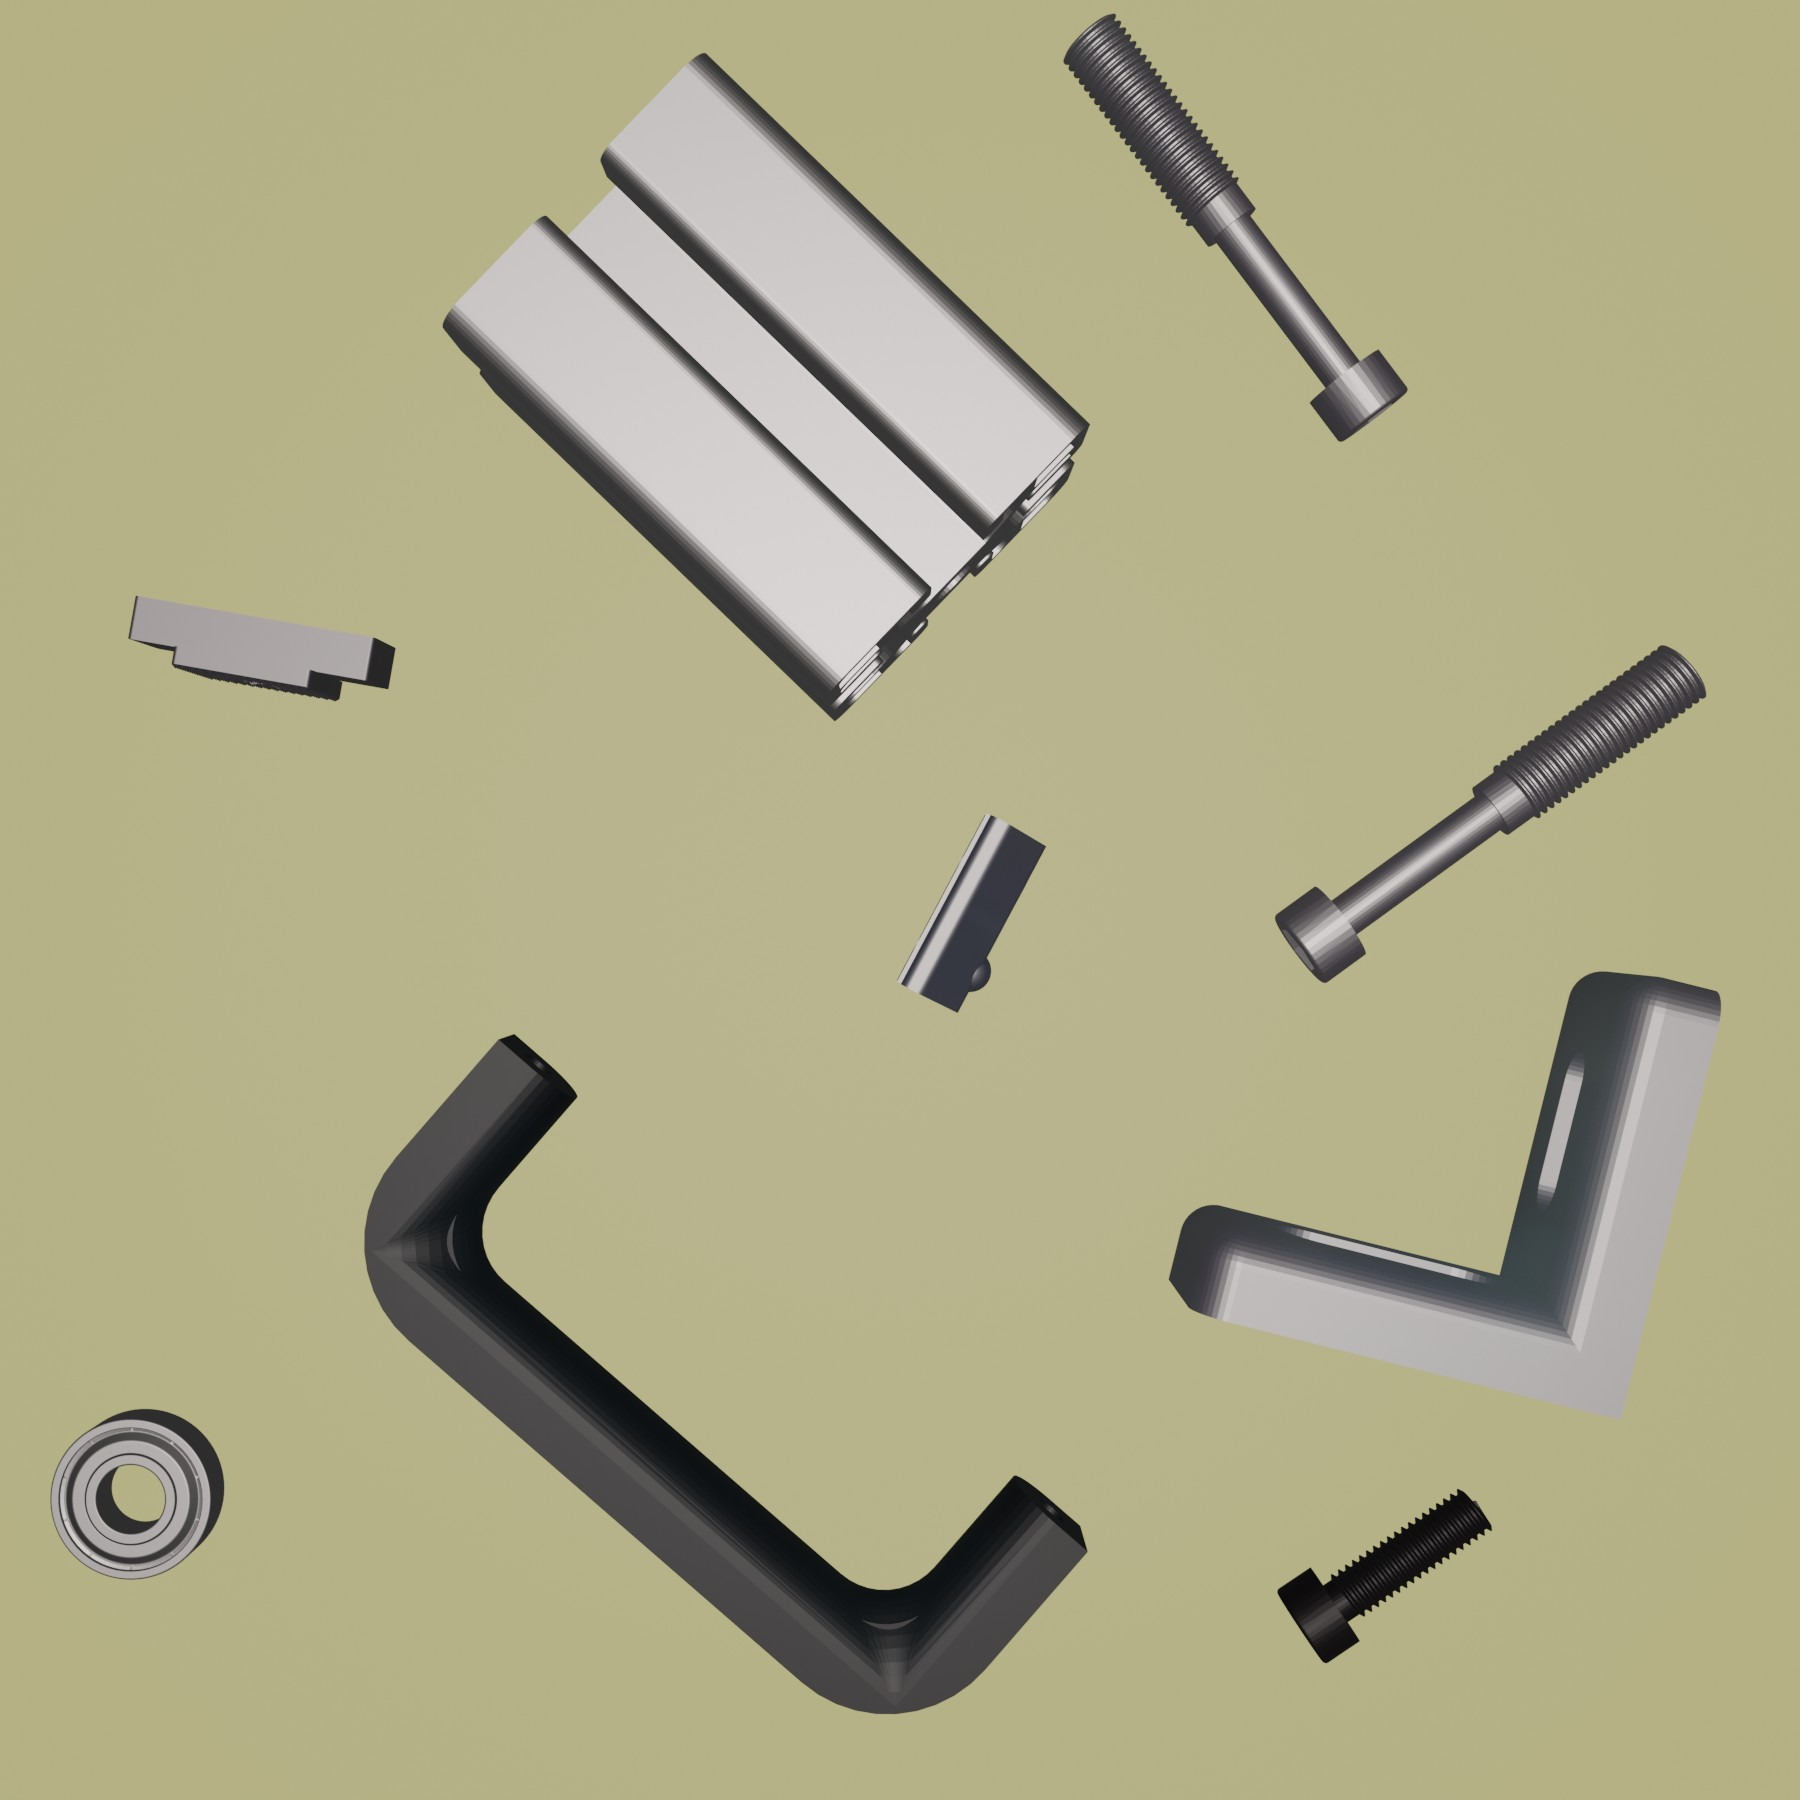Aluminium Extension: (443, 51, 1091, 724)
Ball Bearing: (48, 1408, 227, 1584)
Multiwinkel: (1165, 969, 1724, 1427)
Pull Handle: (361, 1032, 1090, 1716)
Shoulder Socket Head Cap Screw: (1062, 12, 1411, 445), (1271, 641, 1708, 986)
Socket Head Cap Screw: (1276, 1487, 1497, 1666)
T Nut Square: (124, 593, 397, 702)
T Spring Nut: (893, 813, 1047, 1019)
